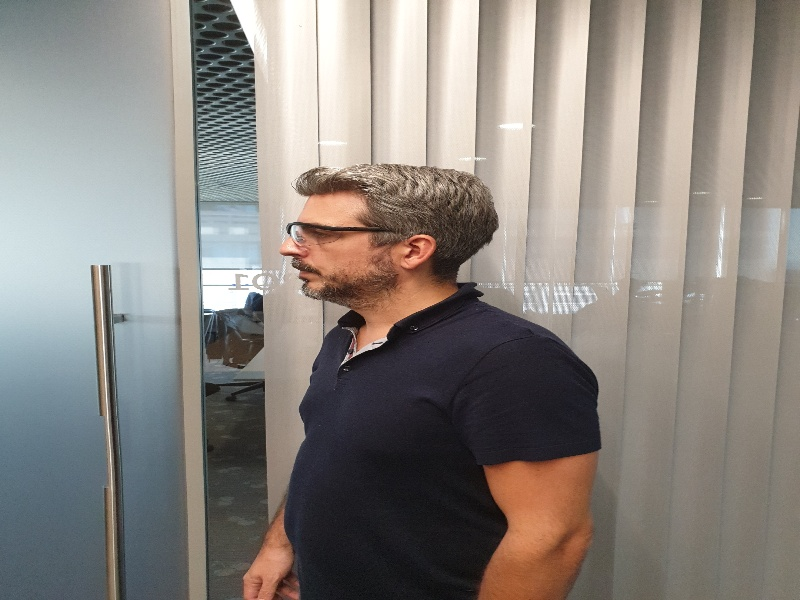Gozluk: (284, 221, 403, 254)
